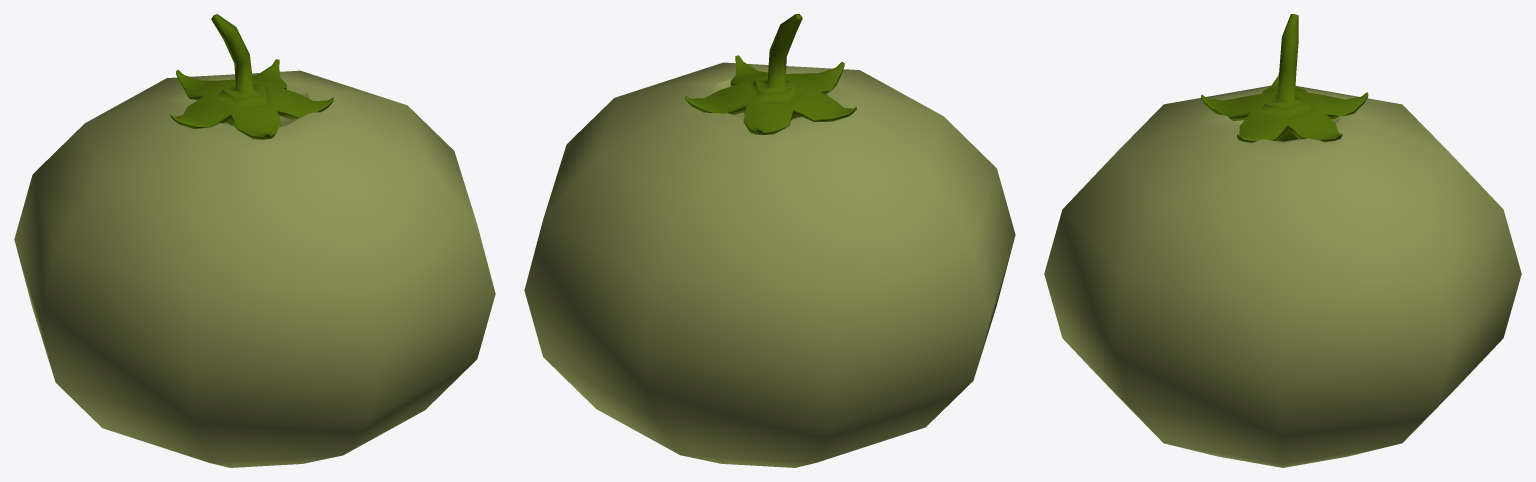
The model's file is Tomato (Growth).fbx.
3 renders of one model, left to right at view 1: azimuth 30°, elevation 25°; view 2: azimuth 150°, elevation 25°; view 3: azimuth 270°, elevation 25°, orthographic. The views are drawn at different scales.
Visible parts, largest first — view 1: Tomato1, TomatoStem1; view 2: Tomato1, TomatoStem1; view 3: Tomato1, TomatoStem1.
Part boxes in pixels (x1,y1,x2,y2): Tomato1: [14, 70, 495, 467]; TomatoStem1: [170, 14, 333, 139]; Tomato1: [524, 62, 1015, 467]; TomatoStem1: [685, 14, 856, 134]; Tomato1: [1044, 85, 1521, 467]; TomatoStem1: [1201, 14, 1368, 142].
Size of the model in its own units: 20.21 by 19 by 20.21.
